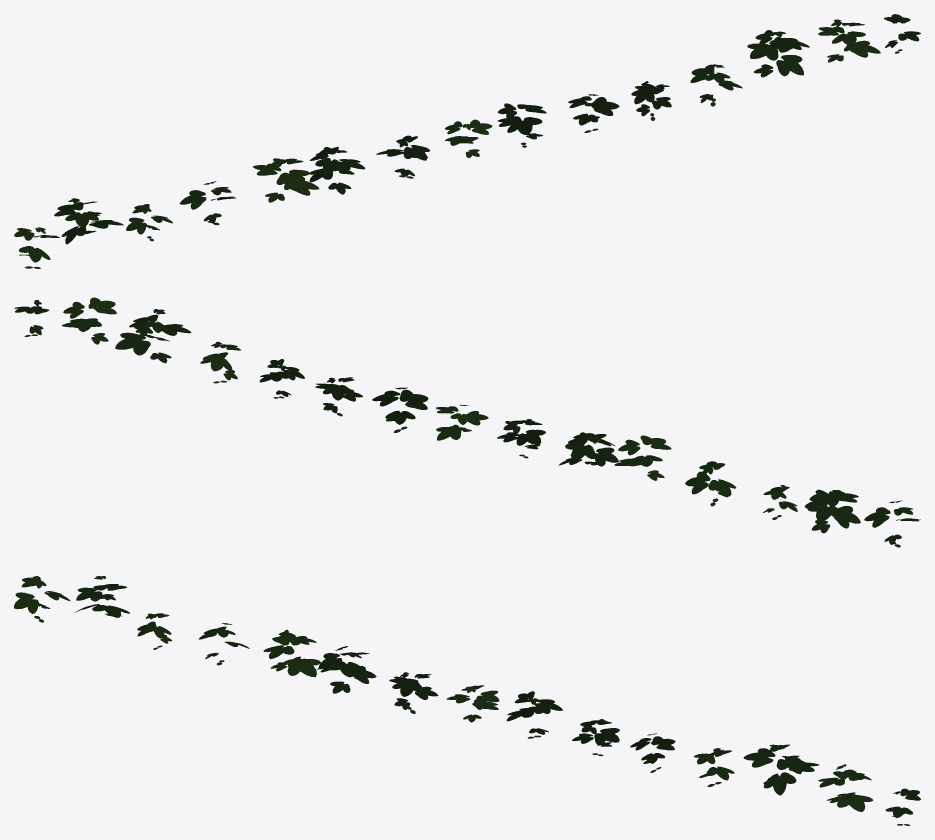
File: ROW_00_SEG4_foliage.dae
The picture shows the model from 3 angles, top to bottom: view 1: azimuth 30°, elevation 25°; view 2: azimuth 150°, elevation 25°; view 3: azimuth 330°, elevation 25°; orthographic projection.
Parts seen in each view (by area): view 1: ROW_00_SEG4_foliage; view 2: ROW_00_SEG4_foliage; view 3: ROW_00_SEG4_foliage.
Boxes of the visible parts, box(x1,y1,x2,y2) form: ROW_00_SEG4_foliage: box(14, 14, 920, 268); ROW_00_SEG4_foliage: box(14, 297, 920, 547); ROW_00_SEG4_foliage: box(14, 576, 920, 825).
Bounding box in the file's own units: 4.42 × 0.3602 × 0.2648.
